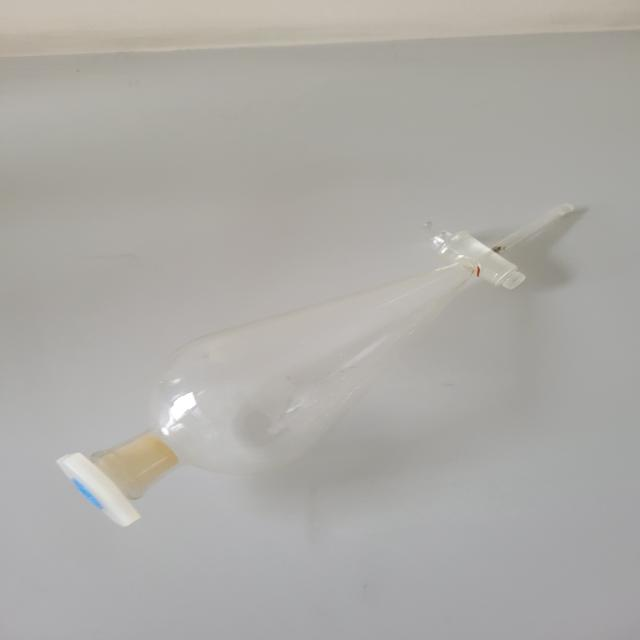Separating_Funnel: (13, 203, 582, 535)
